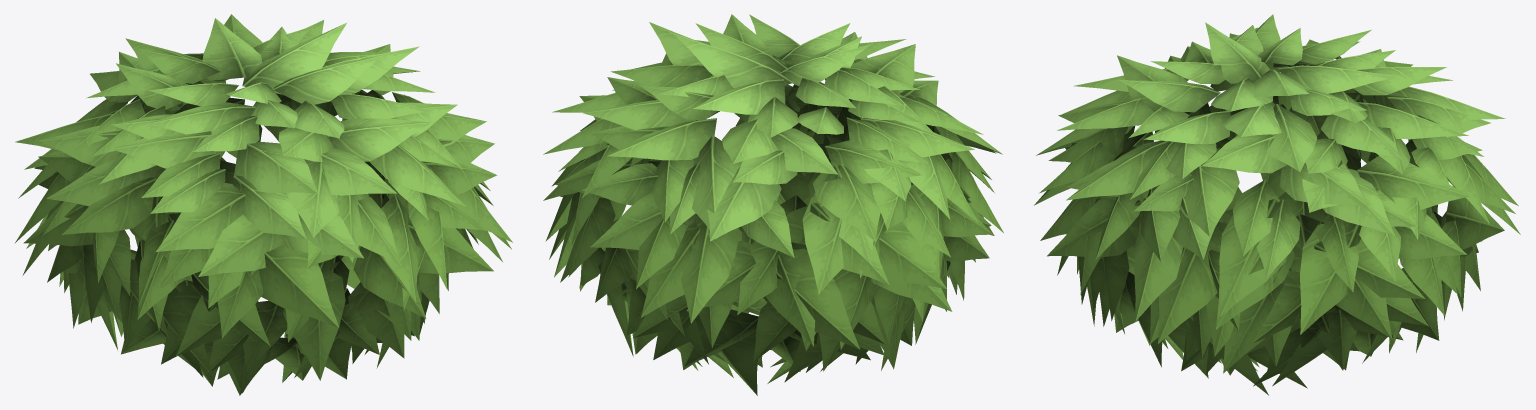
3 renders of one model, left to right at view 1: azimuth 30°, elevation 25°; view 2: azimuth 150°, elevation 25°; view 3: azimuth 270°, elevation 25°, orthographic.
Parts seen in each view (by area): view 1: grid_6_leaves_LOD0; view 2: grid_6_leaves_LOD0; view 3: grid_6_leaves_LOD0.
Boxes of the visible parts, box(x1,y1,x2,y2) form: grid_6_leaves_LOD0: box(15, 14, 512, 395); grid_6_leaves_LOD0: box(543, 14, 1003, 395); grid_6_leaves_LOD0: box(1034, 14, 1520, 395).
Size of what is drawn, in the model's own units: 1.34 by 0.9591 by 1.37.
1 material, 1 textured.
